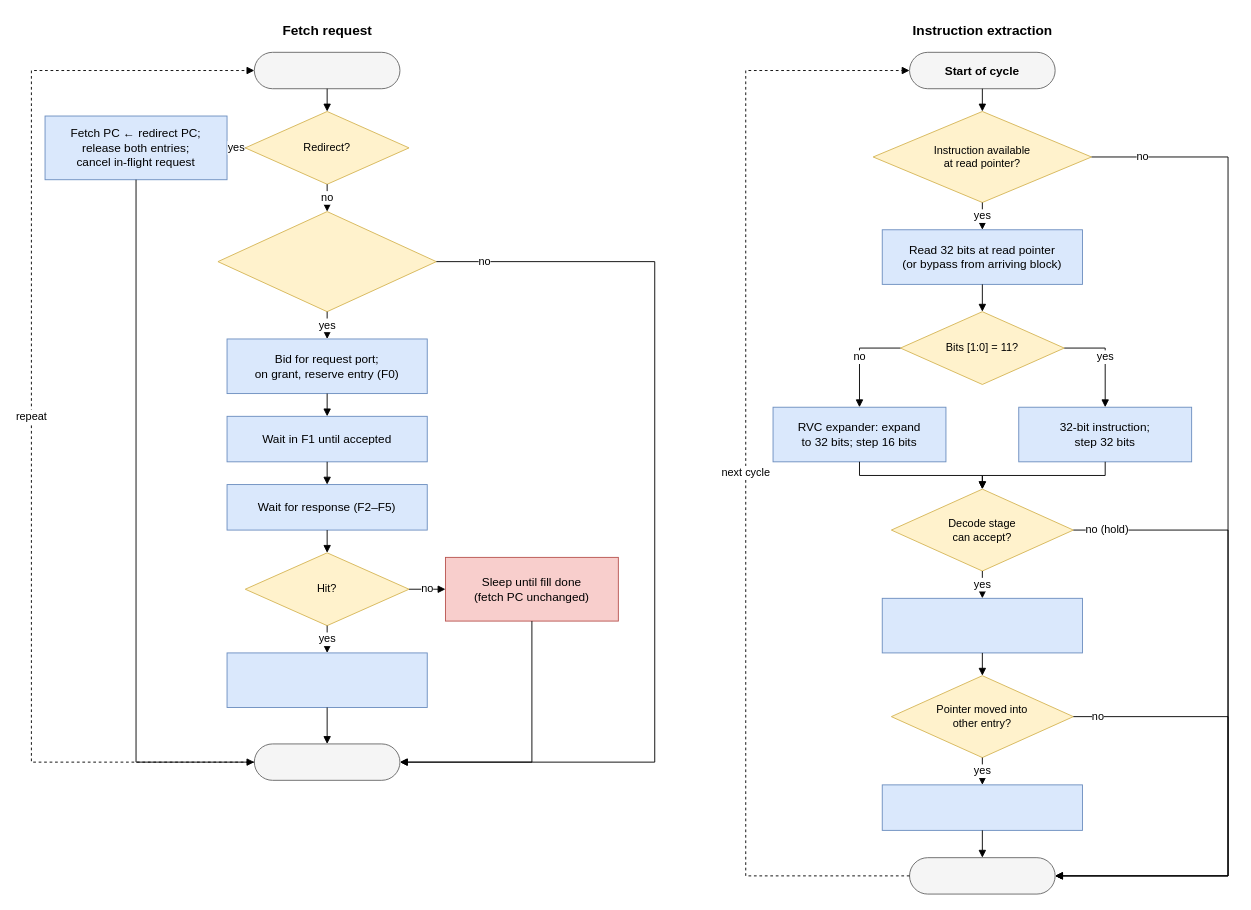
Some shapes in this 1251 by 910 pixel diagram are drawn without their labels. The shapes that lost their labels are listed below. From the top down, each one's centre as x and y in pixels, then its label:
At [326,70]: "Start".
At [326,261]: "Enabled, not sleeping, no request in flight, entry free?".
At [981,625]: "Pass to decode; advance read pointer".
At [326,680]: "Write block into entry (F6); fetch PC ← next block".
At [326,761]: "End".
At [981,807]: "Release entry".
At [982,875]: "End of cycle".
